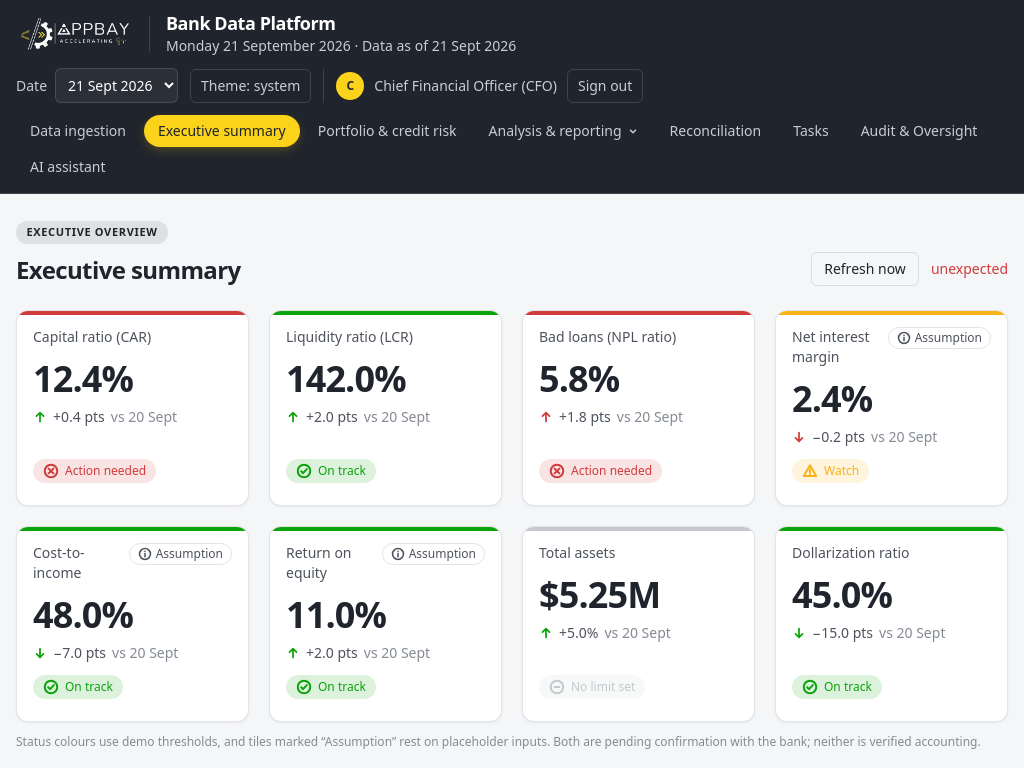
Test: executive summary › lets you look at an earlier date, updating tiles and alerts together
Expected: the list named "Key indicators" is shown, [16,310,1008,722]
Select "20 Sept 2026" in the dropdown labelled "Date" at (116, 86), box [55,68,178,103]
(page scrolled)
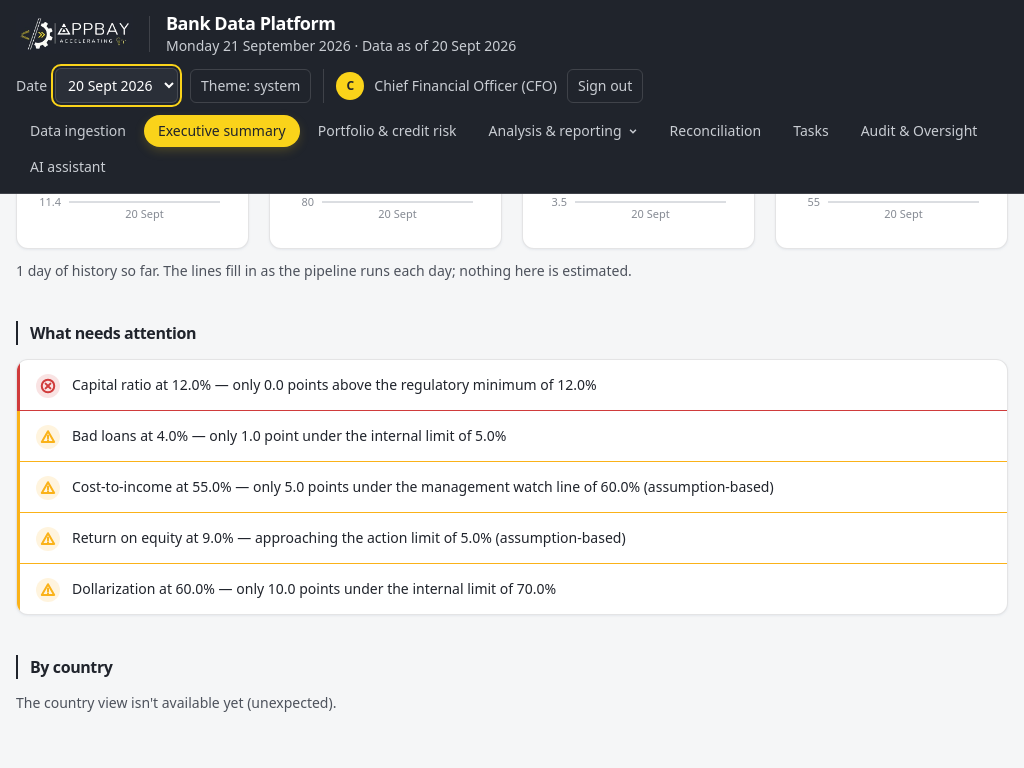
Result: the text "· Data as of 20 Sept 2026" is shown at [351,36,516,55]
Result: the link "Capital ratio at 12.0% — only 0.0 points above" is shown at [36,374,597,398]
